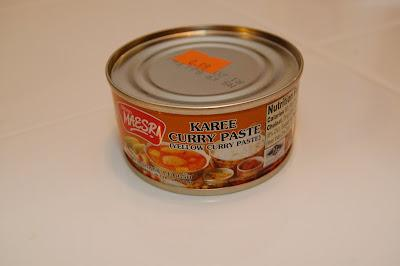metal: (106, 25, 304, 194)
